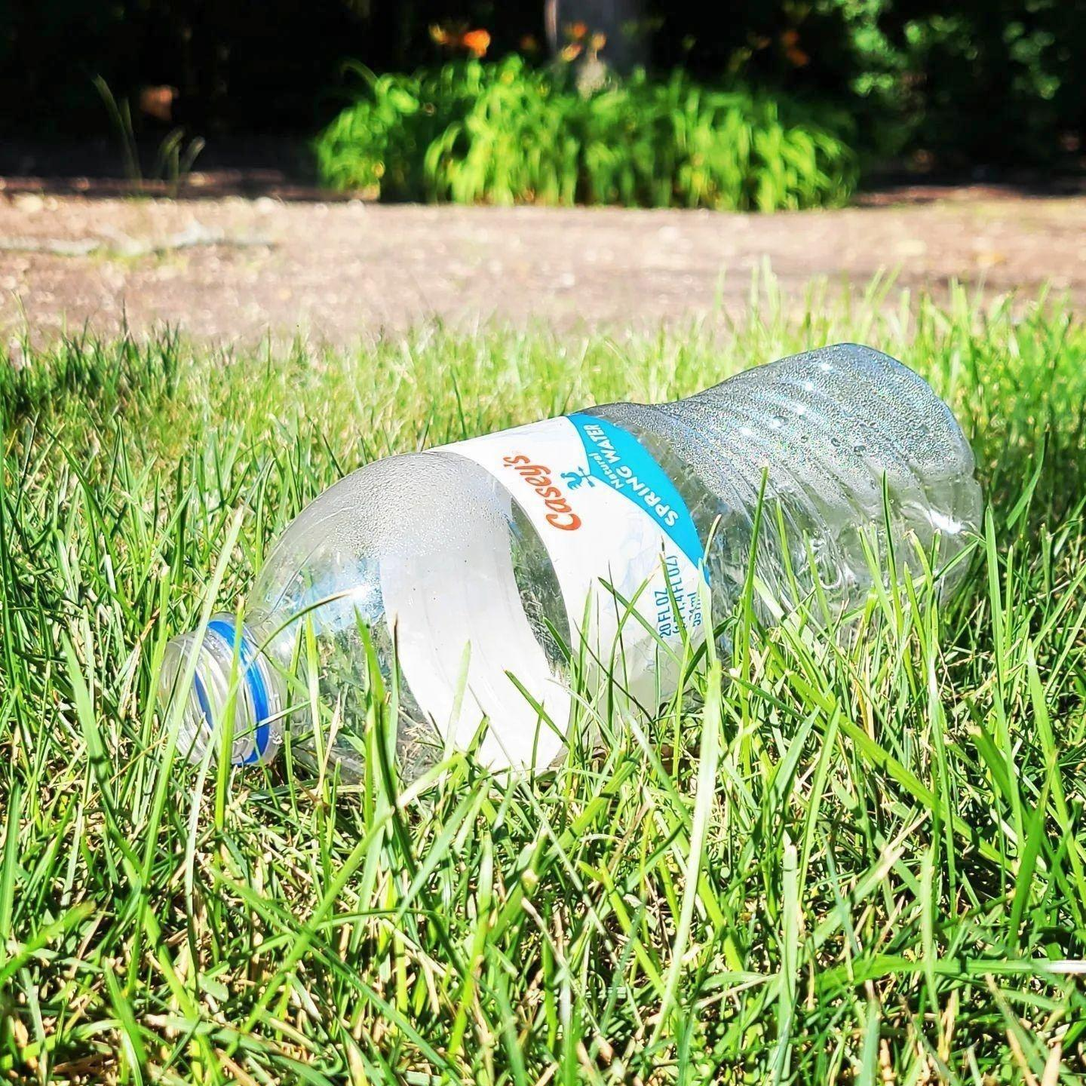bottle-plastic: (156, 325, 989, 805)
